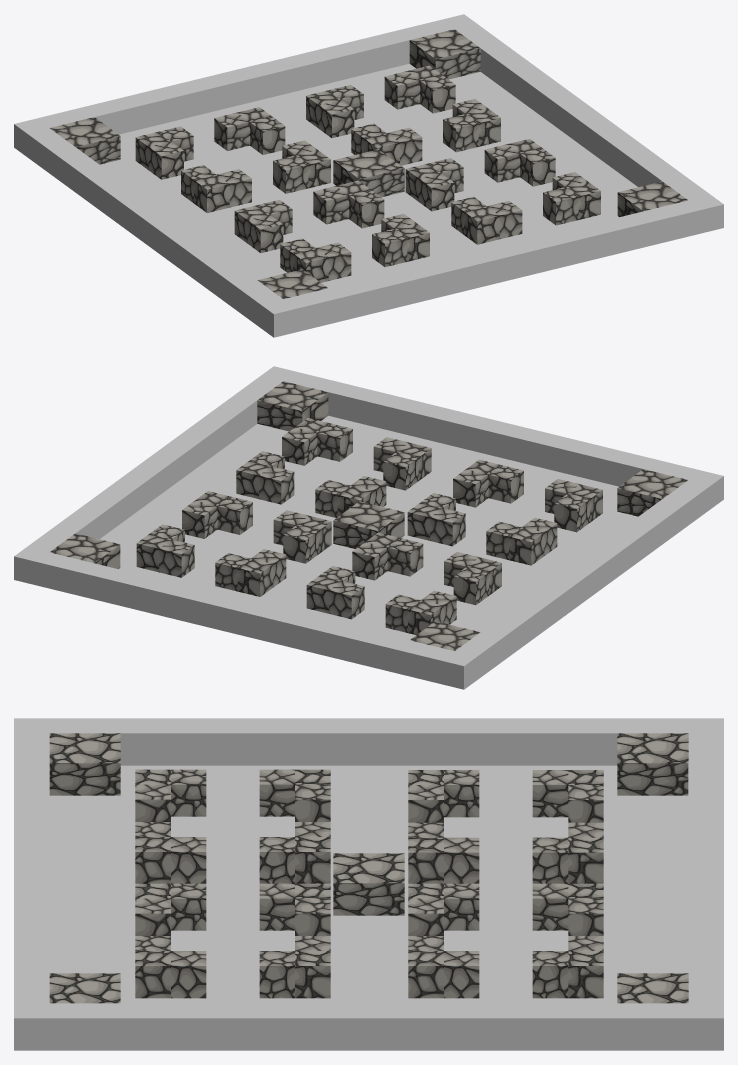
The model's file is lavaMap.fbx.
The picture shows the model from 3 angles, top to bottom: view 1: azimuth 30°, elevation 25°; view 2: azimuth 150°, elevation 25°; view 3: azimuth 270°, elevation 25°; orthographic projection. The views are drawn at different scales.
Visible parts, largest first — view 1: Plane.001, Cube.041, Cube.026, Cube.036, Cube.028, Cube.032, Cube.015, Cube.030, Cube.013, Cube.027, Cube.035, Cube.031 (+10 smaller); view 2: Plane.001, Cube.040, Cube.035, Cube.016, Cube.033, Cube.037, Cube.014, Cube.029, Cube.032, Cube.013, Cube.015, Cube.028 (+10 smaller); view 3: Plane.001, Cube.013, Cube.038, Cube.039, Cube.015, Cube.014, Cube.029, Cube.028, Cube.037, Cube.036, Cube.033, Cube.032 (+10 smaller).
Boxes of the visible parts, x1,y1,x2,y2 form: Plane.001: [14, 14, 723, 337]; Cube.041: [409, 29, 480, 79]; Cube.026: [451, 196, 522, 244]; Cube.036: [313, 180, 384, 228]; Cube.028: [484, 139, 555, 186]; Cube.032: [214, 107, 285, 154]; Cube.015: [384, 65, 455, 113]; Cube.030: [181, 165, 251, 212]; Cube.013: [333, 149, 404, 197]; Cube.027: [405, 158, 463, 211]; Cube.035: [234, 199, 292, 252]; Cube.031: [135, 126, 193, 179]; Plane.001: [14, 366, 723, 689]; Cube.040: [257, 381, 328, 431]; Cube.035: [486, 517, 557, 565]; Cube.016: [215, 549, 286, 596]; Cube.033: [352, 532, 423, 580]; Cube.037: [453, 459, 523, 507]; Cube.014: [182, 491, 252, 538]; Cube.029: [282, 418, 352, 465]; Cube.032: [306, 566, 364, 619]; Cube.013: [333, 501, 404, 548]; Cube.015: [136, 524, 194, 577]; Cube.028: [236, 451, 294, 504]; Plane.001: [14, 718, 723, 1050]; Cube.013: [333, 853, 404, 915]; Cube.038: [617, 733, 688, 795]; Cube.039: [49, 733, 120, 795]; Cube.015: [532, 936, 603, 998]; Cube.014: [408, 936, 479, 998]; Cube.029: [135, 936, 206, 998]; Cube.028: [259, 936, 330, 998]; Cube.037: [135, 822, 206, 883]; Cube.036: [259, 822, 330, 883]; Cube.033: [408, 822, 479, 883]; Cube.032: [532, 822, 603, 883].
Size of the model in its own units: 8000 by 400 by 8000.
